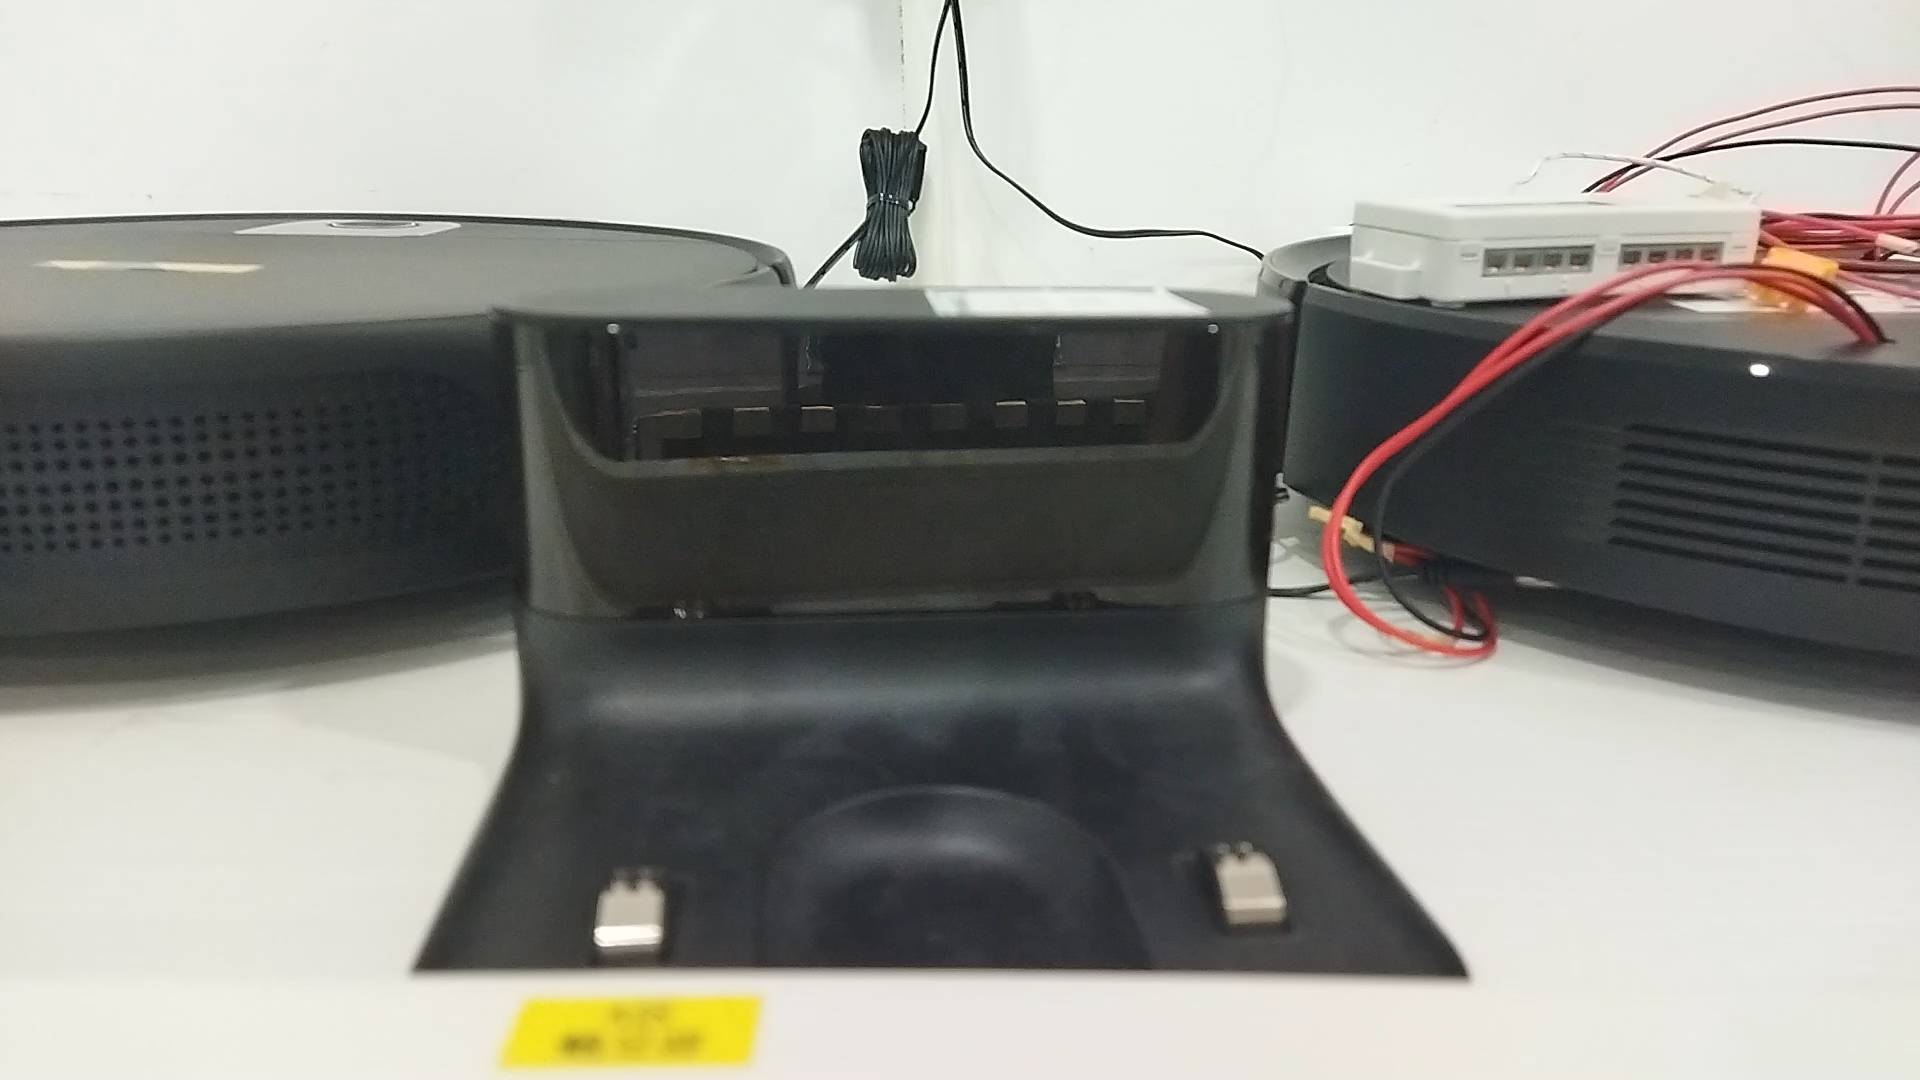recharge seat: (407, 286, 1498, 988)
